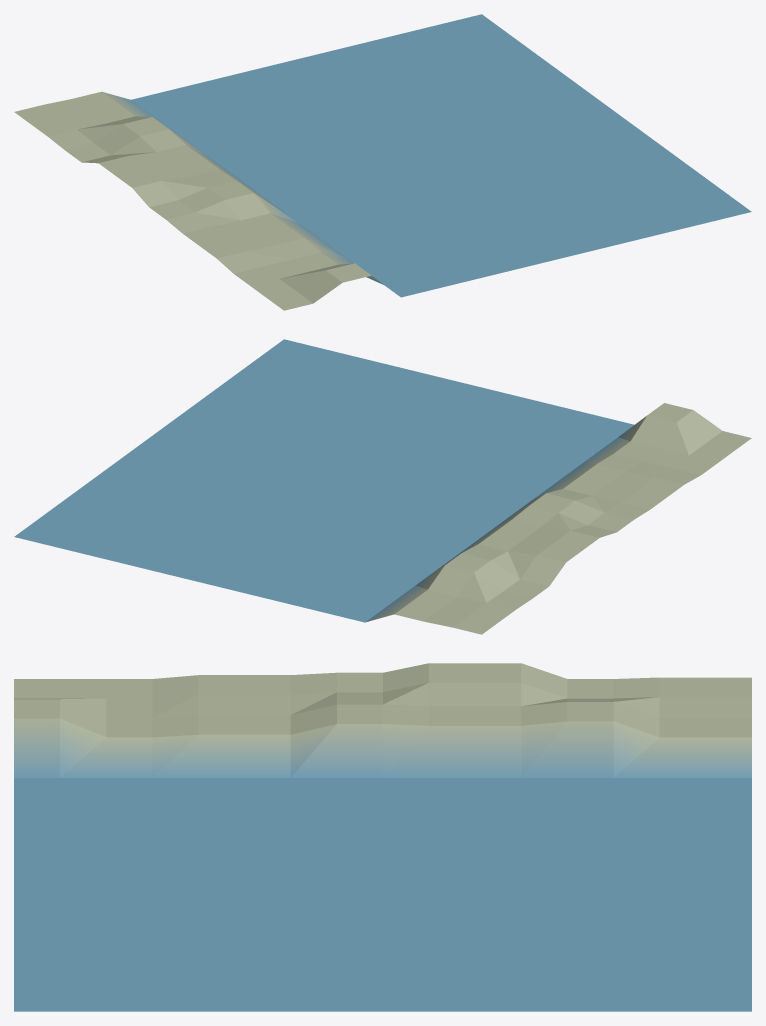
3 views of the same model, one above another, from view 1: azimuth 30°, elevation 25°; view 2: azimuth 150°, elevation 25°; view 3: azimuth 270°, elevation 25° (orthographic). The views are drawn at different scales.
Bounding box in the file's own units: 32 × 1.9 × 32.
